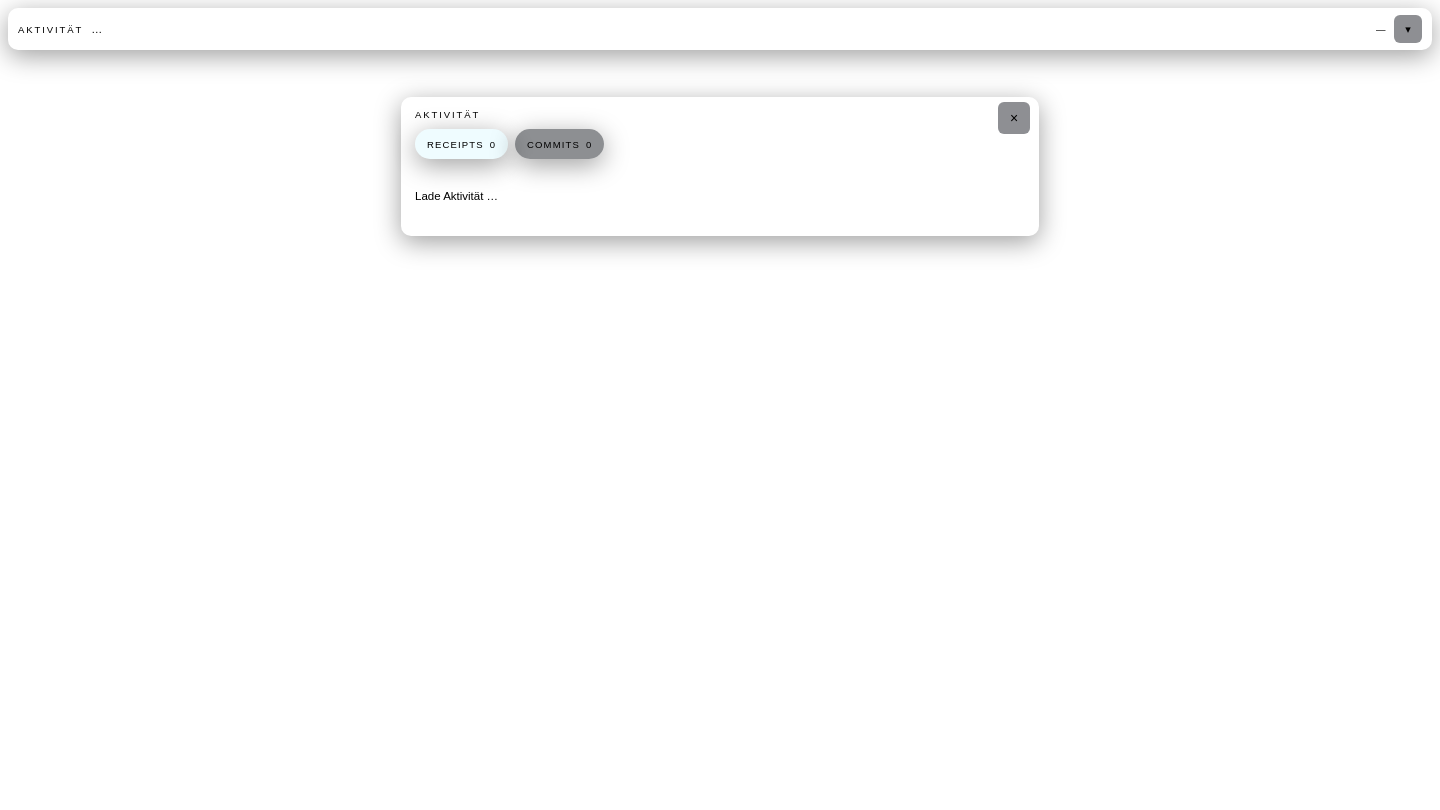
Test: AktivitaetPanel (Receipts + Commits, echte Daten über die Bestands-Hooks) › Commits-Tab: Hash, Message, Attribution und Disclosure
Step 1. Click the tab "COMMITS 0" → [560, 144], box left=515, top=129, right=604, bottom=159
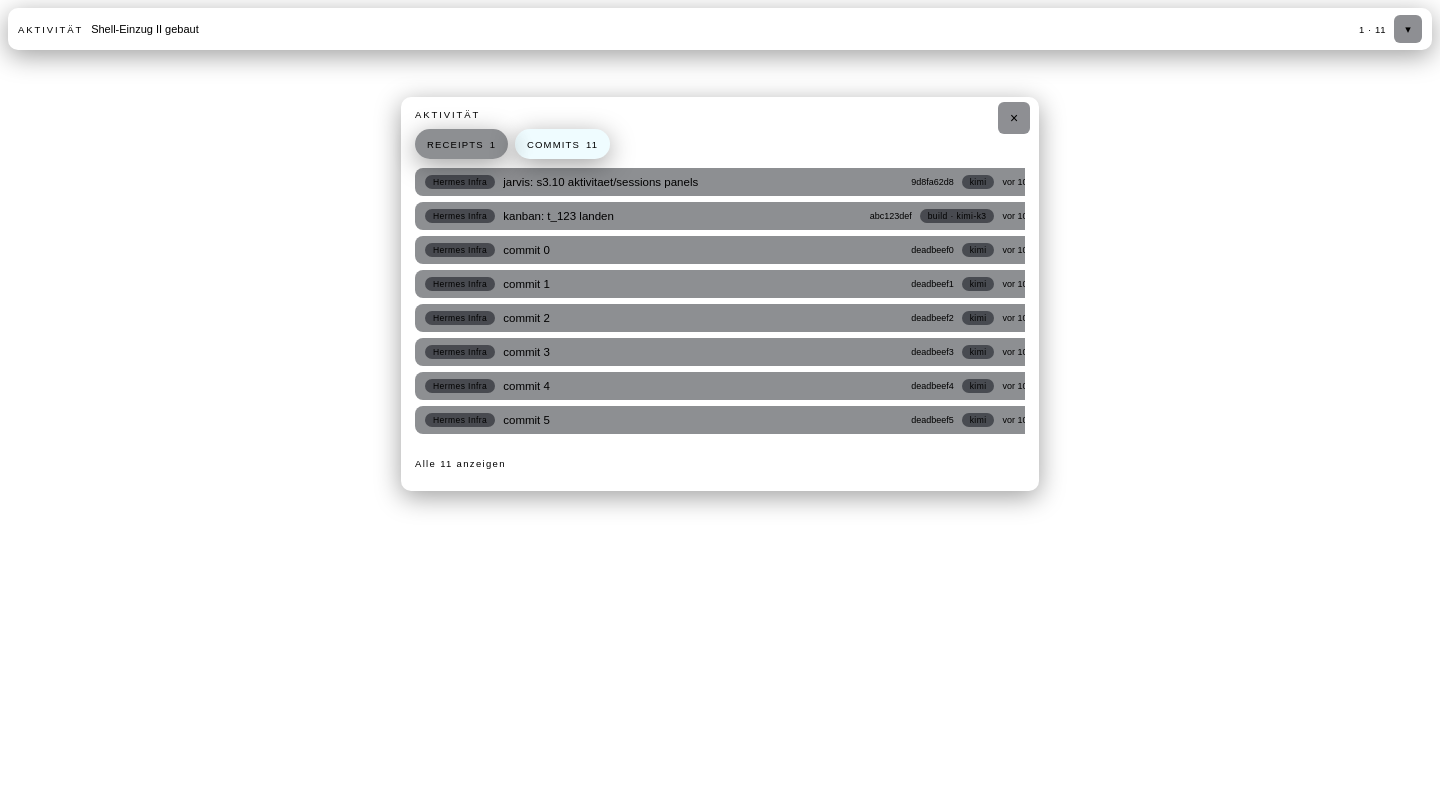
Expected: the text "commit 8" is not shown
Result: the text "9d8fa62d8" is shown at left=911, top=177, right=954, bottom=187
Result: the text "build · kimi-k3" is shown at left=920, top=209, right=994, bottom=223
Step 2. Click the button "Alle 11 anzeigen" → [460, 463], box left=415, top=447, right=506, bottom=479
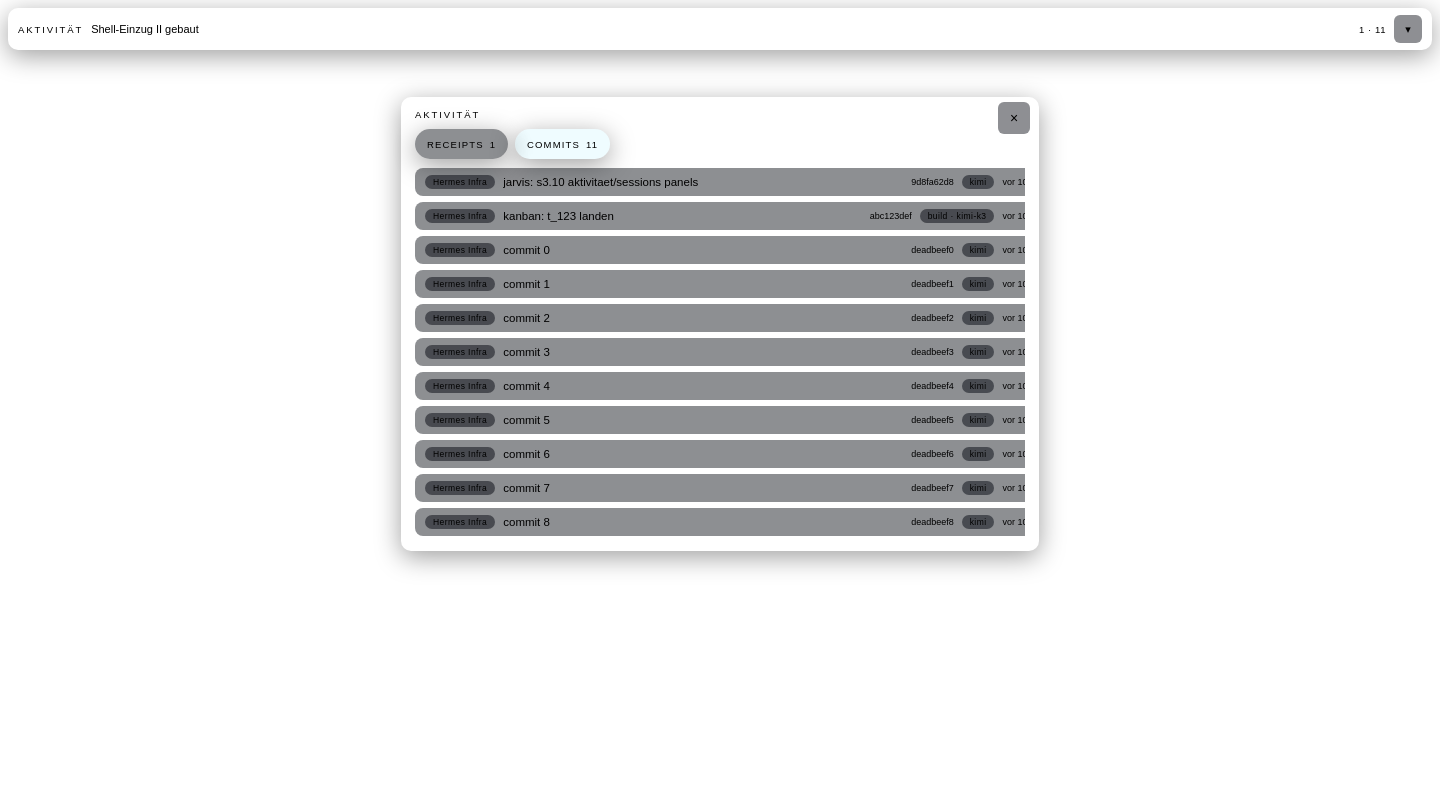
Result: the text "commit 8" is shown at left=503, top=516, right=550, bottom=528
